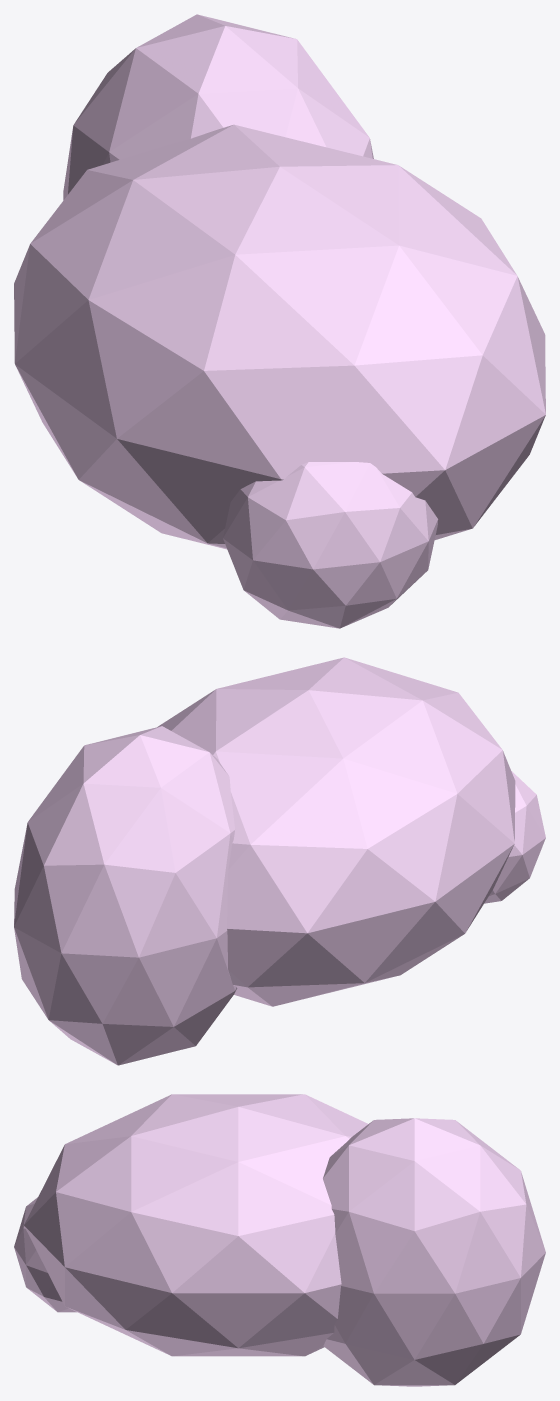
Rendered from cloud2.fbx.
The picture shows the model from 3 angles, top to bottom: view 1: azimuth 30°, elevation 25°; view 2: azimuth 150°, elevation 25°; view 3: azimuth 270°, elevation 25°; orthographic projection. The views are drawn at different scales.
Parts seen in each view (by area): view 1: Icosphere.016, Icosphere.017, Icosphere.013; view 2: Icosphere.016, Icosphere.017, Icosphere.013; view 3: Icosphere.016, Icosphere.017, Icosphere.013.
Part boxes in pixels (bbox=[...]): Icosphere.016: bbox=[14, 124, 545, 549]; Icosphere.017: bbox=[63, 14, 373, 200]; Icosphere.013: bbox=[223, 462, 438, 628]; Icosphere.016: bbox=[157, 657, 515, 1006]; Icosphere.017: bbox=[14, 726, 237, 1065]; Icosphere.013: bbox=[484, 771, 545, 903]; Icosphere.016: bbox=[24, 1094, 368, 1356]; Icosphere.017: bbox=[323, 1118, 545, 1386]; Icosphere.013: bbox=[14, 1197, 76, 1312].
Bounding box in the file's own units: 518 × 478 × 858.
